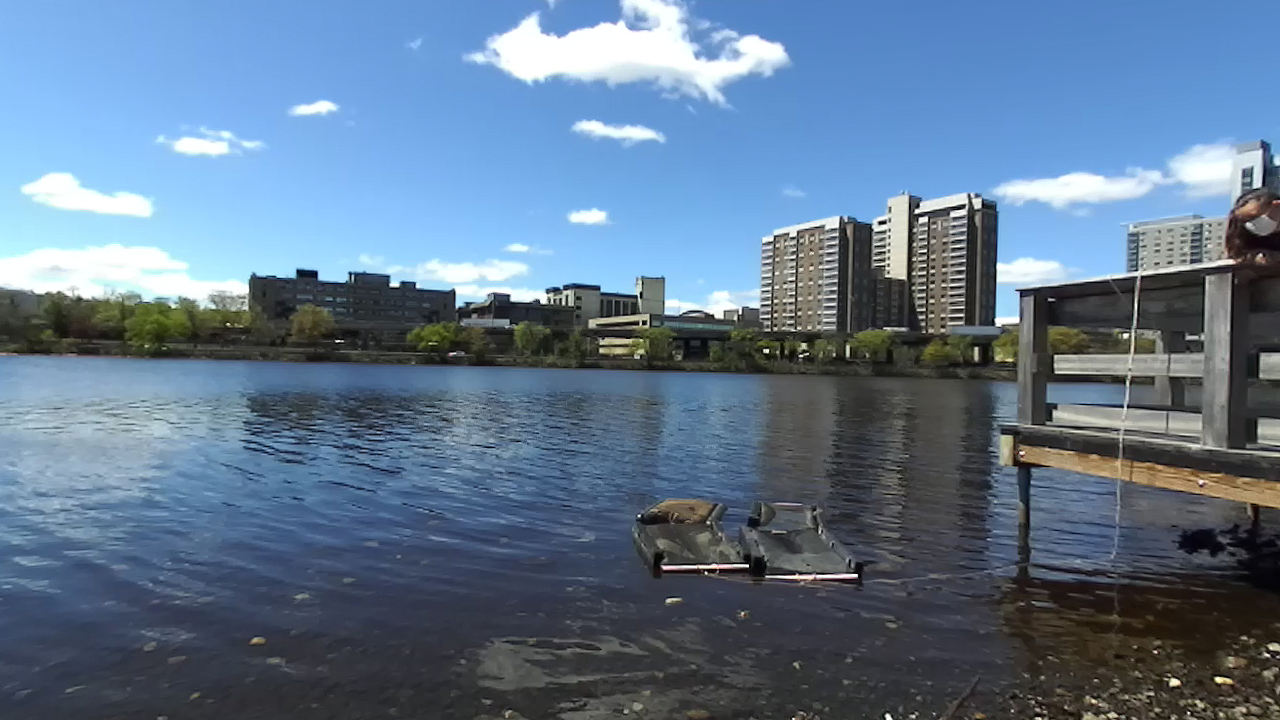bag: (740, 526, 866, 579), (634, 522, 749, 578), (633, 497, 728, 525), (751, 497, 822, 525)
